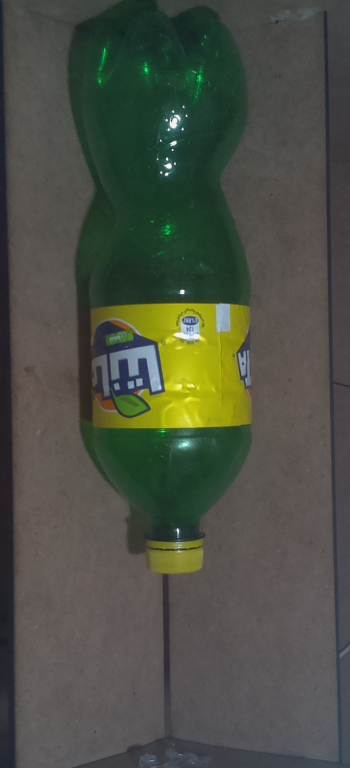Bouteille_1L: (64, 12, 265, 582)
